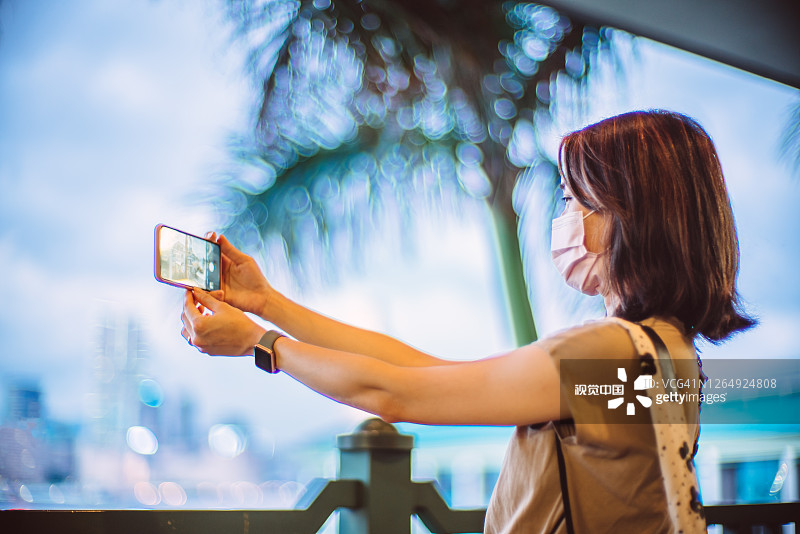taking photos: (135, 211, 285, 373)
